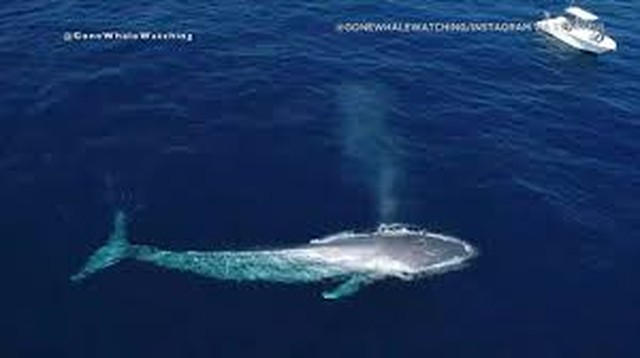whale: (65, 208, 480, 303)
